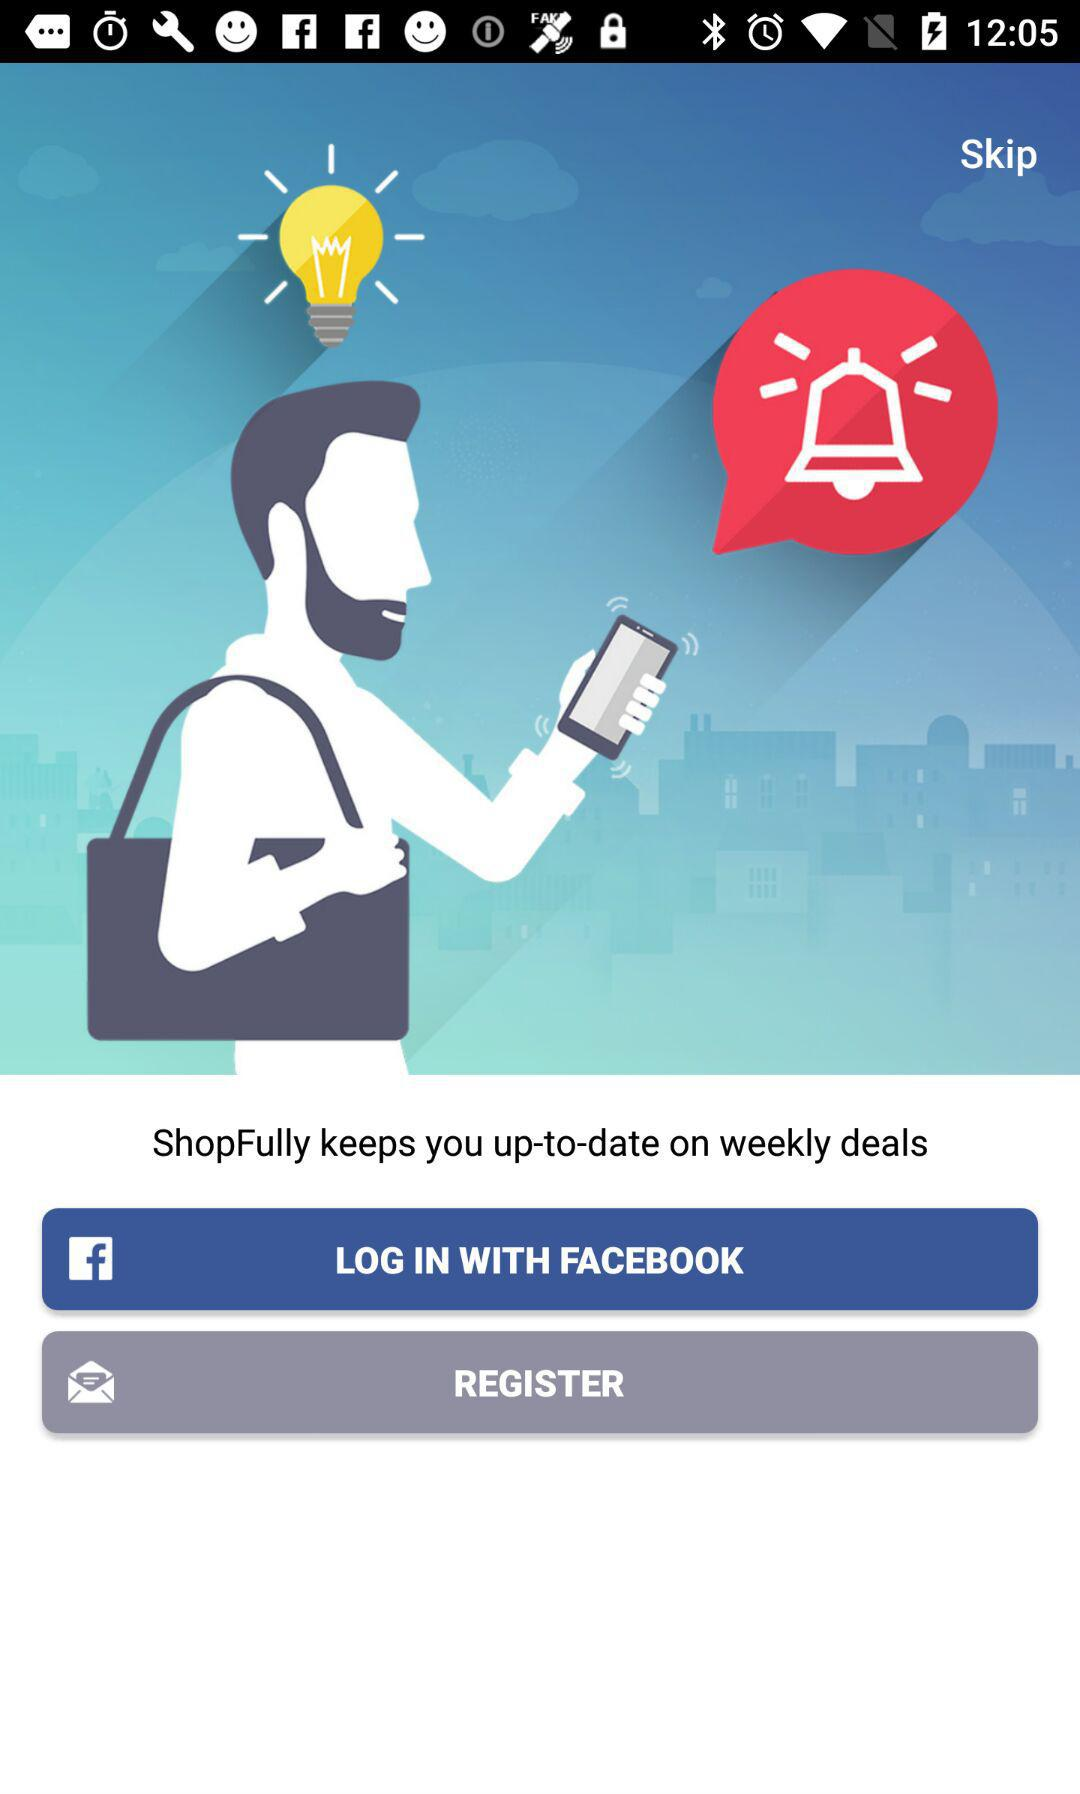Image: (1, 64, 1080, 1075)
Text: (154, 1128, 928, 1165), (960, 138, 1038, 178)
TextButton: (42, 1331, 1038, 1434), (42, 1208, 1038, 1311)
UpperTaskBar: (1, 1, 1080, 64)
